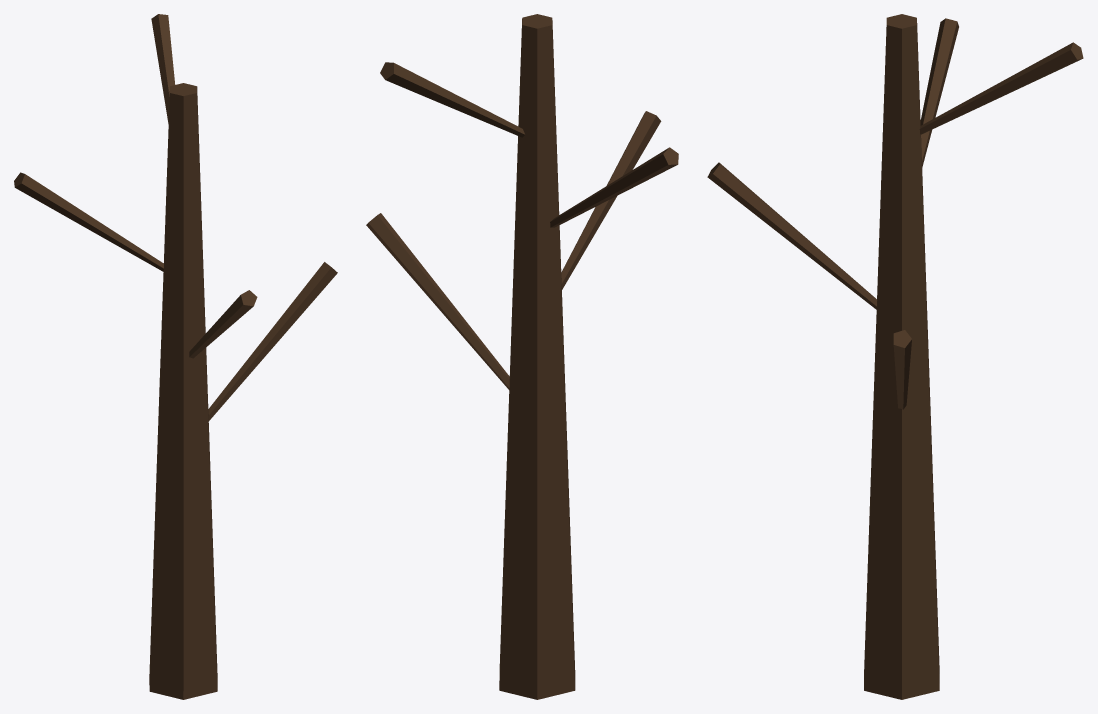
The model's file is dead-tree.glb.
3 renders of one model, left to right at view 1: azimuth 30°, elevation 25°; view 2: azimuth 150°, elevation 25°; view 3: azimuth 270°, elevation 25°, orthographic. The views are drawn at different scales.
Visible parts, largest first — view 1: tree; view 2: tree; view 3: tree.
Part boxes in pixels (box(x1,y1,x2,y2)): tree: box(14, 14, 337, 699); tree: box(366, 14, 678, 699); tree: box(707, 14, 1083, 699).
Size of the model in its own units: 2.65 by 5.05 by 2.58.
